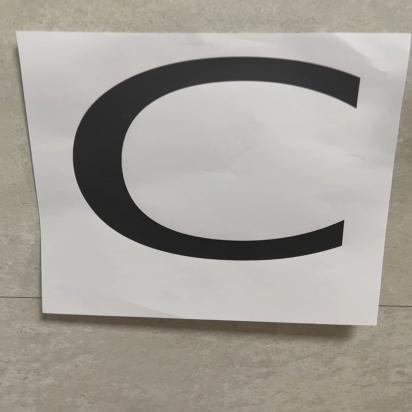seat: (35, 41, 396, 326)
